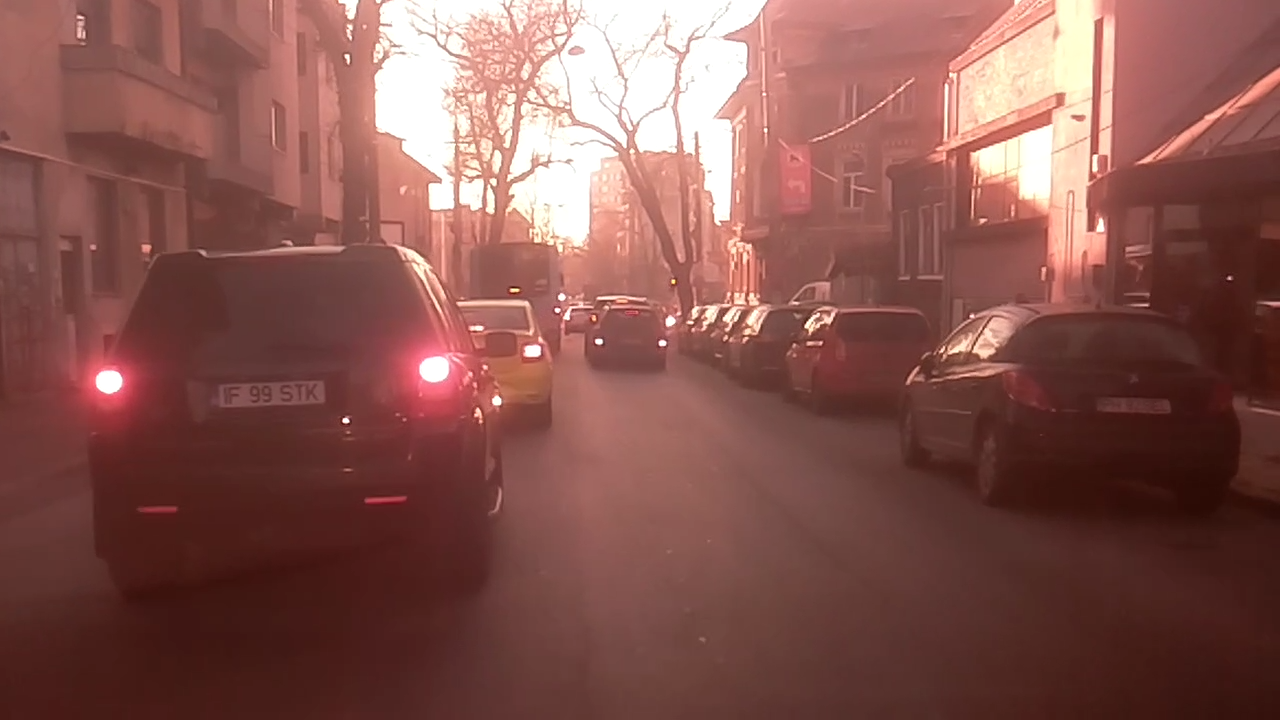license-plate: (208, 376, 329, 414)
